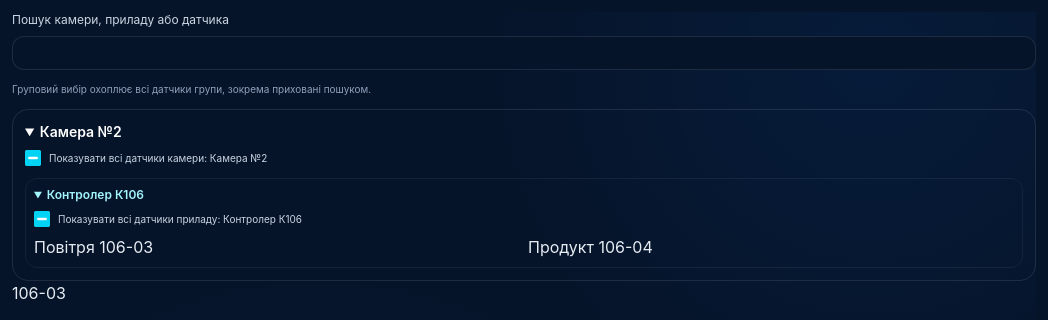
Test: Overview hierarchy controls › exposes mixed selection and selects the whole group even while searching
Type "Повітря" into the search field. click: coordinates (524, 53)
box: x1=12 y1=36 x2=1036 y2=70
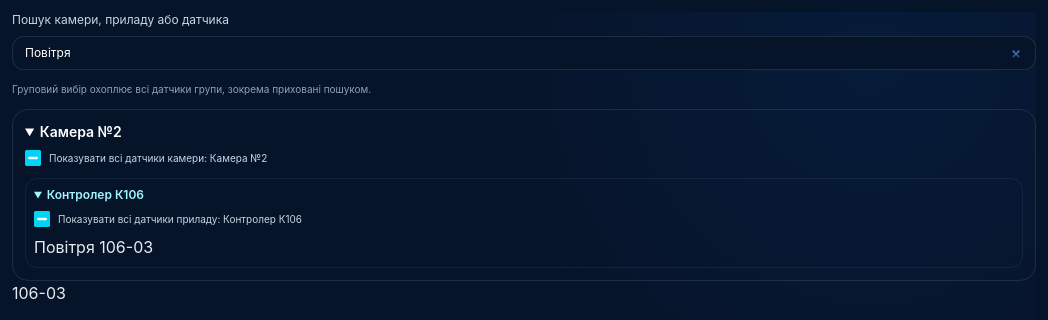
Expected: the text "Продукт 106-04" is gone
Click the checkbox labelled "Показувати всі датчики приладу: Контролер К106". click: coordinates (42, 219)
box: x1=34 y1=211 x2=50 y2=227
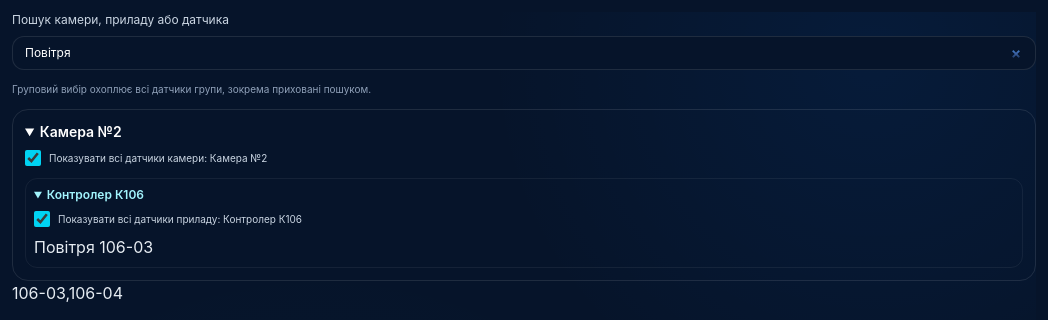
Expected: the checkbox labelled "Показувати всі датчики приладу: Контролер К106" is checked
Expected: the text named "selected" reads "106-03,106-04", x1=12 y1=283 x2=123 y2=303
Click the checkbox labelled "Показувати всі датчики приладу: Контролер К106". click: coordinates (42, 219)
box: x1=34 y1=211 x2=50 y2=227
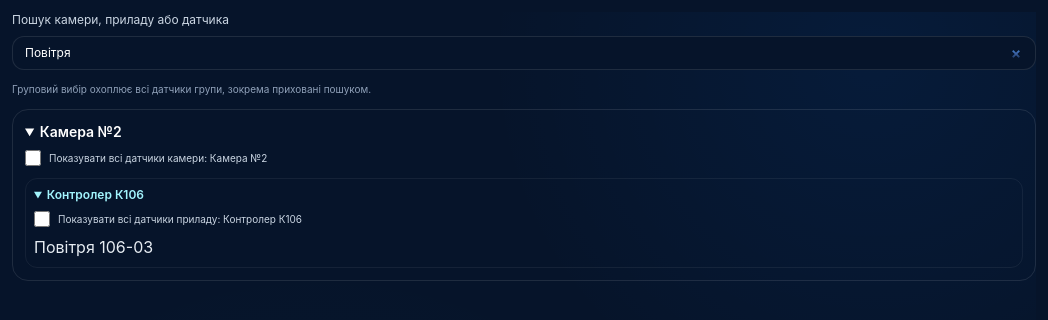
Replace the text in the search field with "Камера №2". click: coordinates (524, 53)
box: x1=12 y1=36 x2=1036 y2=70
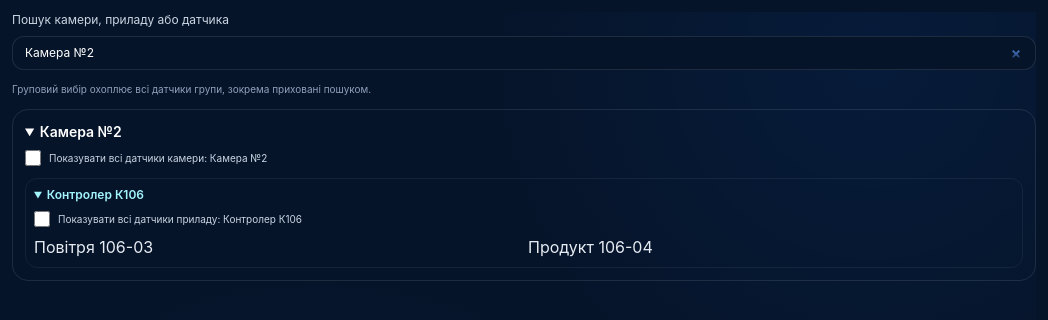
Expected: the text "Продукт 106-04" is shown, x1=528 y1=237 x2=653 y2=257
